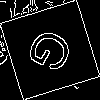G: (25, 25, 84, 81)
